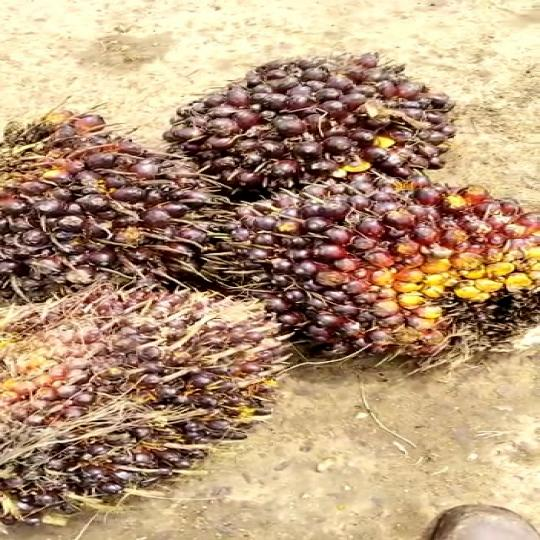kurang masak: (188, 179, 540, 366), (0, 290, 264, 528), (173, 46, 456, 195), (0, 112, 213, 293)
